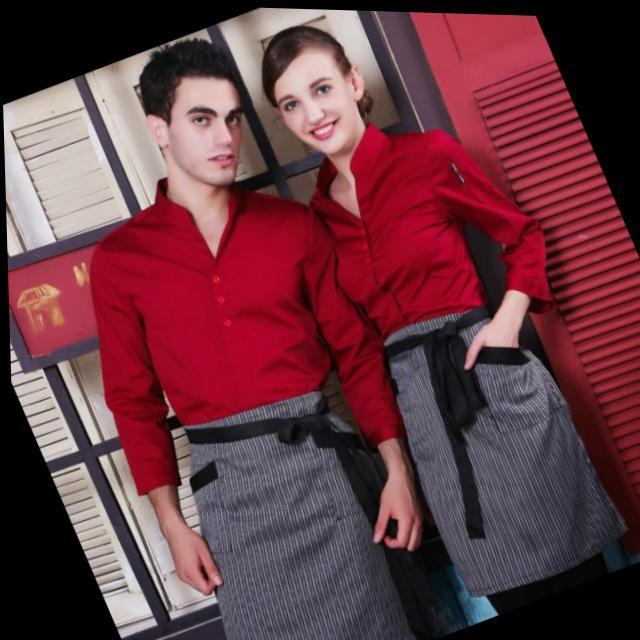Nonhelmet: (135, 35, 249, 189), (258, 23, 374, 158)
